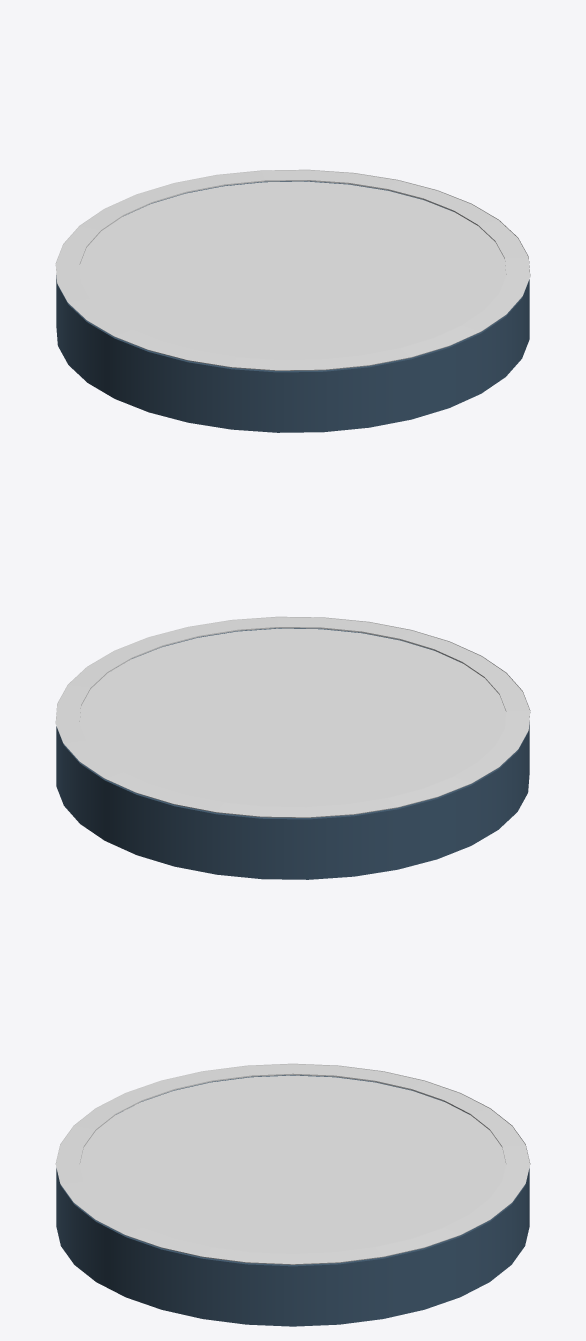
File: PointPers.fbx
3 views of the same model, one above another, from view 1: azimuth 30°, elevation 25°; view 2: azimuth 150°, elevation 25°; view 3: azimuth 270°, elevation 25° (orthographic).
Parts seen in each view (by area): view 1: PointPers, PointPers2; view 2: PointPers, PointPers2; view 3: PointPers, PointPers2.
Boxes of the visible parts, x1,y1,x2,y2 form: PointPers: [56, 181, 529, 432]; PointPers2: [55, 169, 530, 370]; PointPers: [56, 628, 529, 879]; PointPers2: [55, 616, 530, 817]; PointPers: [56, 1075, 529, 1326]; PointPers2: [55, 1063, 530, 1264].
Size of the model in its own units: 404 by 160 by 404.
